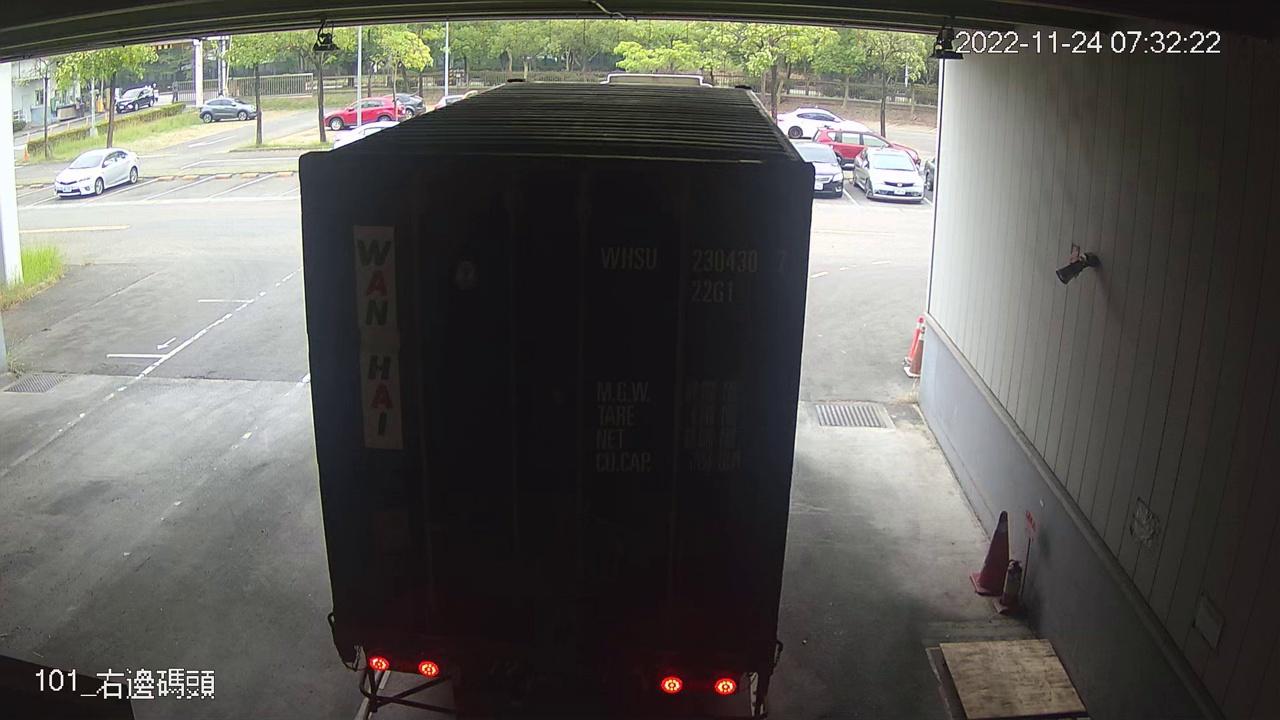container: (593, 235, 797, 305)
